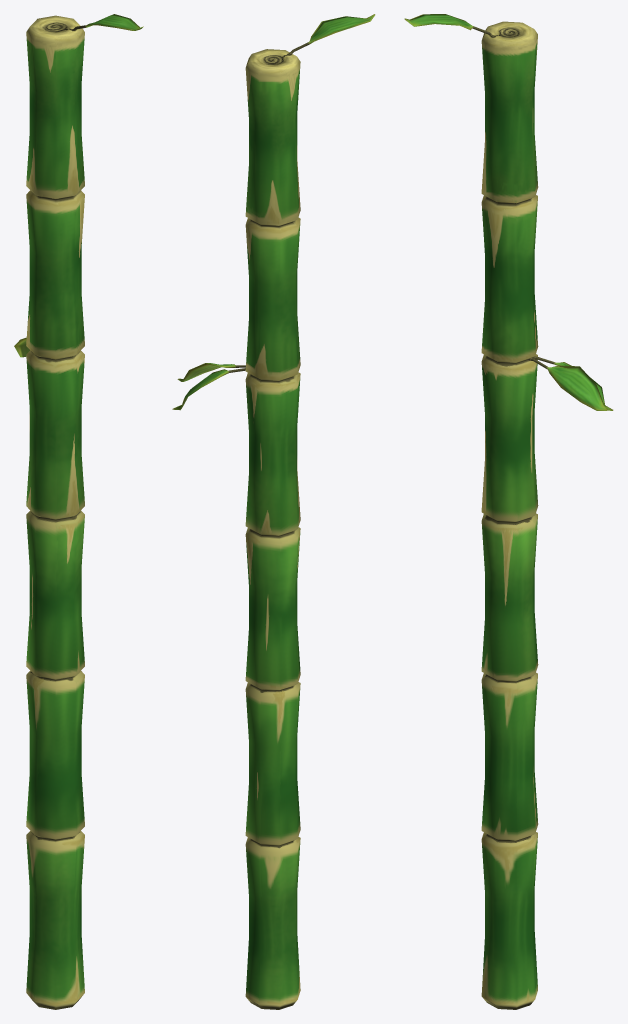
File: Bamboo.fbx
3 views of the same model, side by side, from view 1: azimuth 90°, elevation 25°; view 2: azimuth 150°, elevation 25°; view 3: azimuth 330°, elevation 25° (orthographic). The views are drawn at different scales.
Visible parts, largest first — view 1: Bamboo; view 2: Bamboo; view 3: Bamboo.
Boxes of the visible parts, x1=… form: Bamboo: x1=14, y1=14, x2=143, y2=1009; Bamboo: x1=172, y1=14, x2=375, y2=1009; Bamboo: x1=404, y1=14, x2=613, y2=1009.
Size of the model in its own units: 212 by 1254 by 147.
